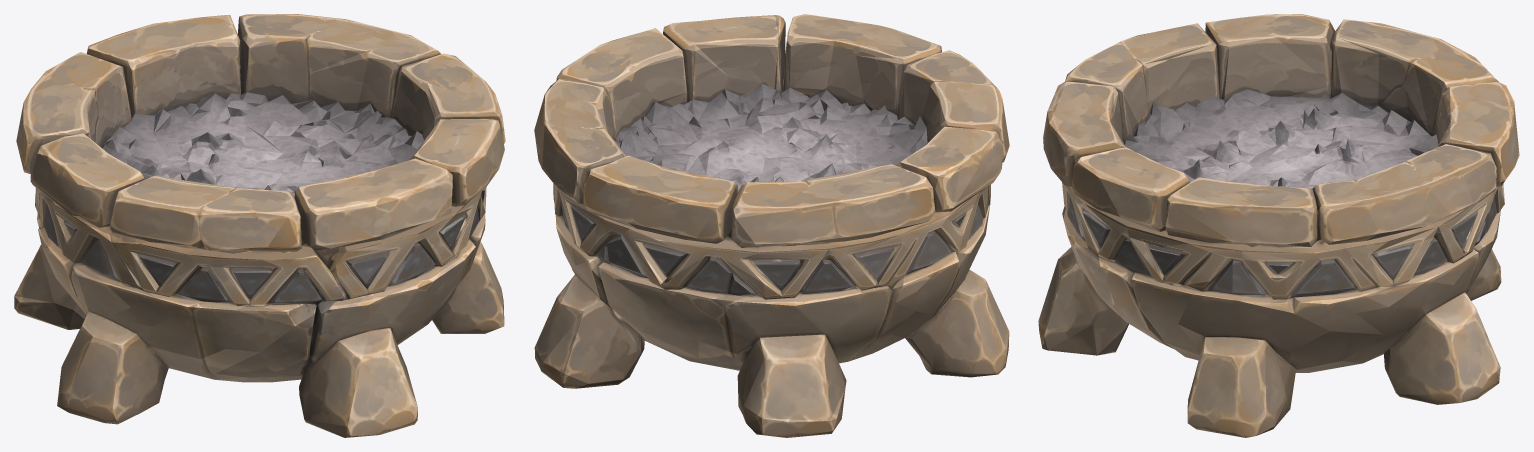
File: brazier.hq.glb
The picture shows the model from 3 angles, left to right: view 1: azimuth 30°, elevation 25°; view 2: azimuth 150°, elevation 25°; view 3: azimuth 270°, elevation 25°; orthographic projection. The views are drawn at different scales.
Parts seen in each view (by area): view 1: output_unwrapped; view 2: output_unwrapped; view 3: output_unwrapped.
Boxes of the visible parts, bbox=[...] form: output_unwrapped: bbox=[14, 14, 505, 437]; output_unwrapped: bbox=[534, 14, 1009, 437]; output_unwrapped: bbox=[1038, 14, 1519, 437].
Size of the model in its own units: 1.9 by 0.9591 by 1.85.
1 material, 1 textured.
